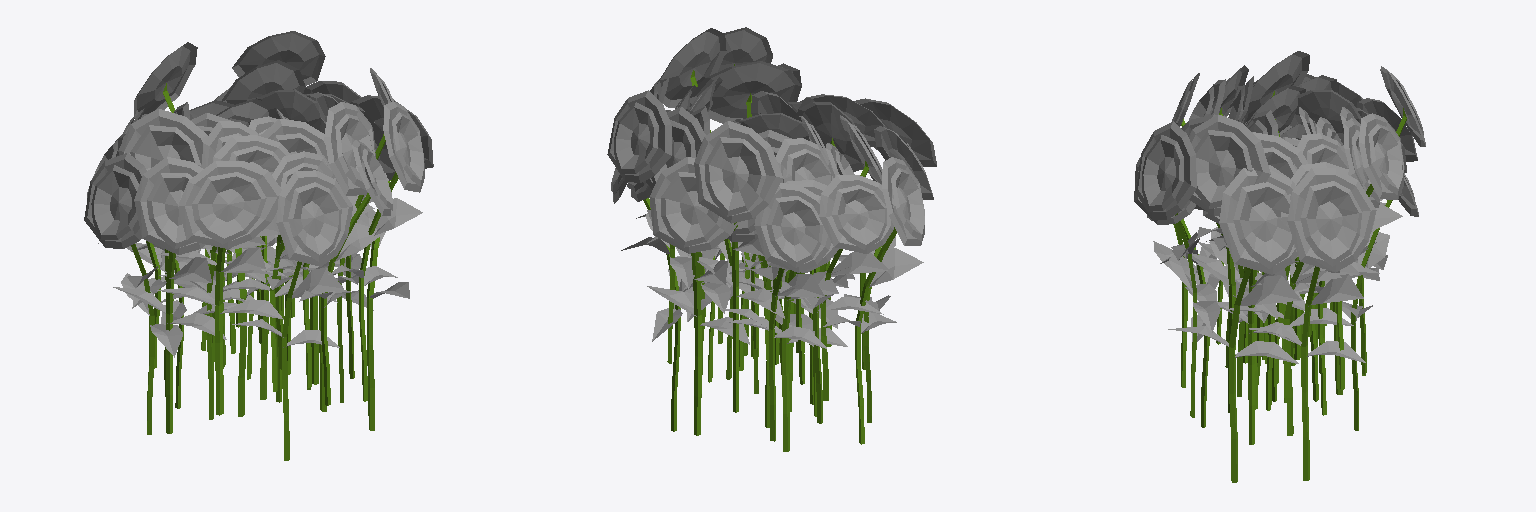
3 renders of one model, left to right at view 1: azimuth 30°, elevation 25°; view 2: azimuth 150°, elevation 25°; view 3: azimuth 270°, elevation 25°, orthographic.
Visible parts, largest first — view 1: flower_red; view 2: flower_red; view 3: flower_red.
Boxes of the visible parts, box(x1,y1,x2,y2) form: flower_red: box(84, 31, 433, 460); flower_red: box(607, 27, 936, 451); flower_red: box(1134, 51, 1425, 482).
Size of the model in its own units: 0.4006 by 0.4563 by 0.3271.
Materials: 3 (1 with a texture image).